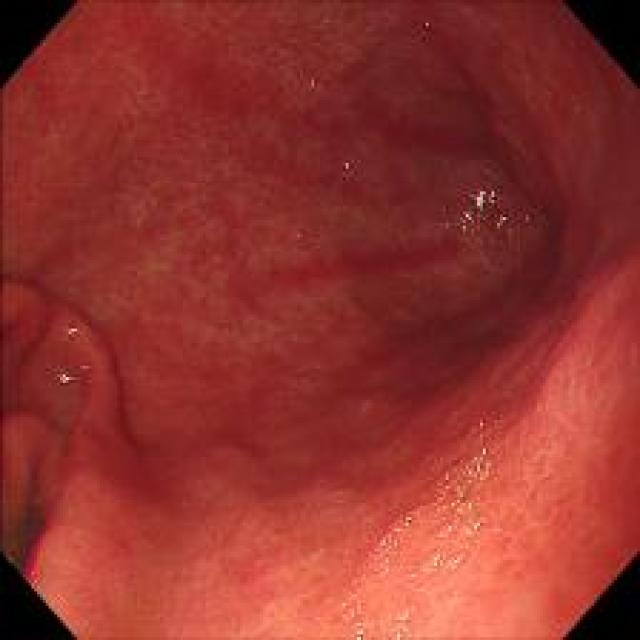bubbles: (418, 548, 449, 575), (394, 601, 420, 628), (448, 554, 466, 566)
color misalignment: (460, 186, 512, 240), (54, 370, 75, 386), (61, 324, 76, 339), (340, 158, 352, 171), (306, 78, 316, 88)
specularity: (439, 445, 499, 546), (456, 184, 521, 246), (376, 511, 414, 571), (342, 590, 368, 638), (51, 364, 82, 392), (431, 551, 440, 566), (398, 610, 410, 621), (452, 555, 460, 565)
